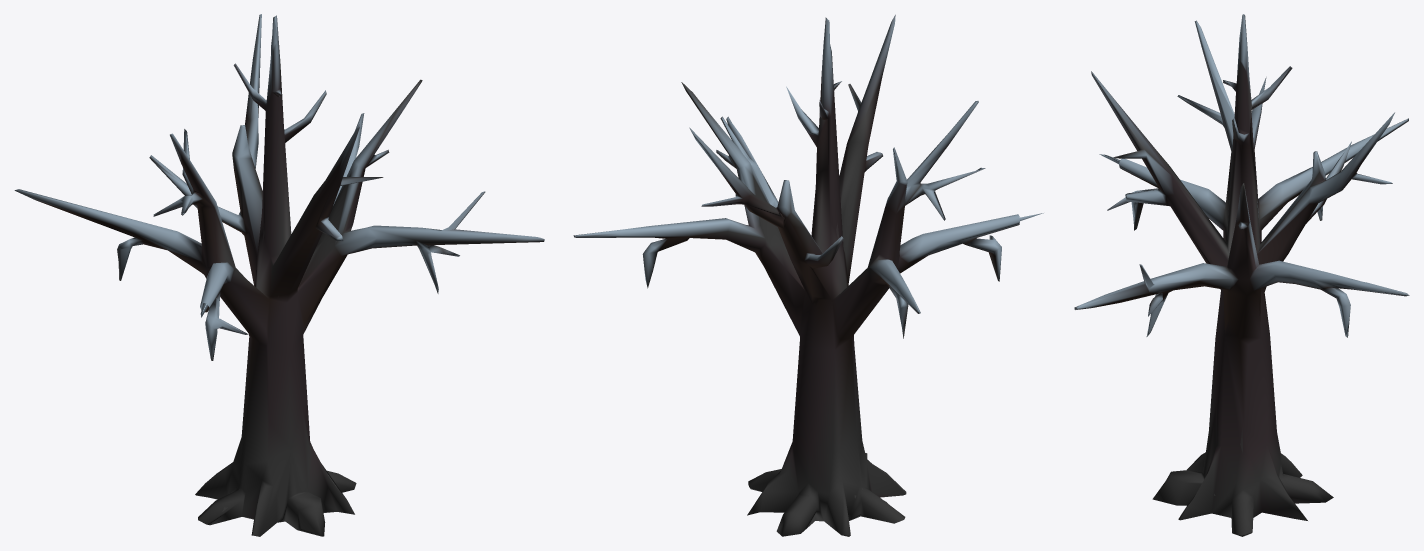
The model's file is gen3d-frozen-dead-tree-lod1.glb.
3 renders of one model, left to right at view 1: azimuth 30°, elevation 25°; view 2: azimuth 150°, elevation 25°; view 3: azimuth 270°, elevation 25°, orthographic.
Parts seen in each view (by area): view 1: part_0; view 2: part_0; view 3: part_0.
Boxes of the visible parts, bbox=[...] form: part_0: bbox=[14, 14, 544, 536]; part_0: bbox=[573, 14, 1043, 536]; part_0: bbox=[1074, 14, 1409, 536].
Size of the model in its own units: 0.7752 by 0.999 by 0.6253.
